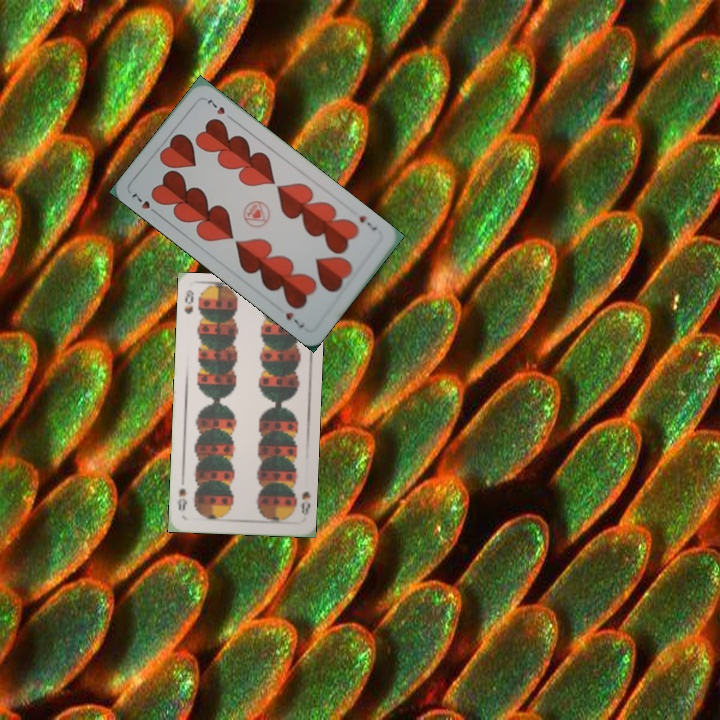H7: (127, 188, 161, 218), (355, 211, 380, 234)
S8: (297, 487, 313, 518), (180, 287, 196, 317)
